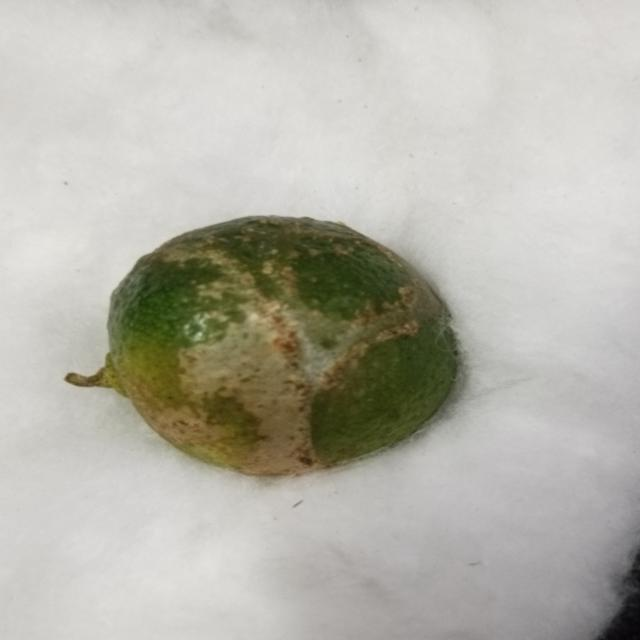thrips: (99, 209, 463, 478)
